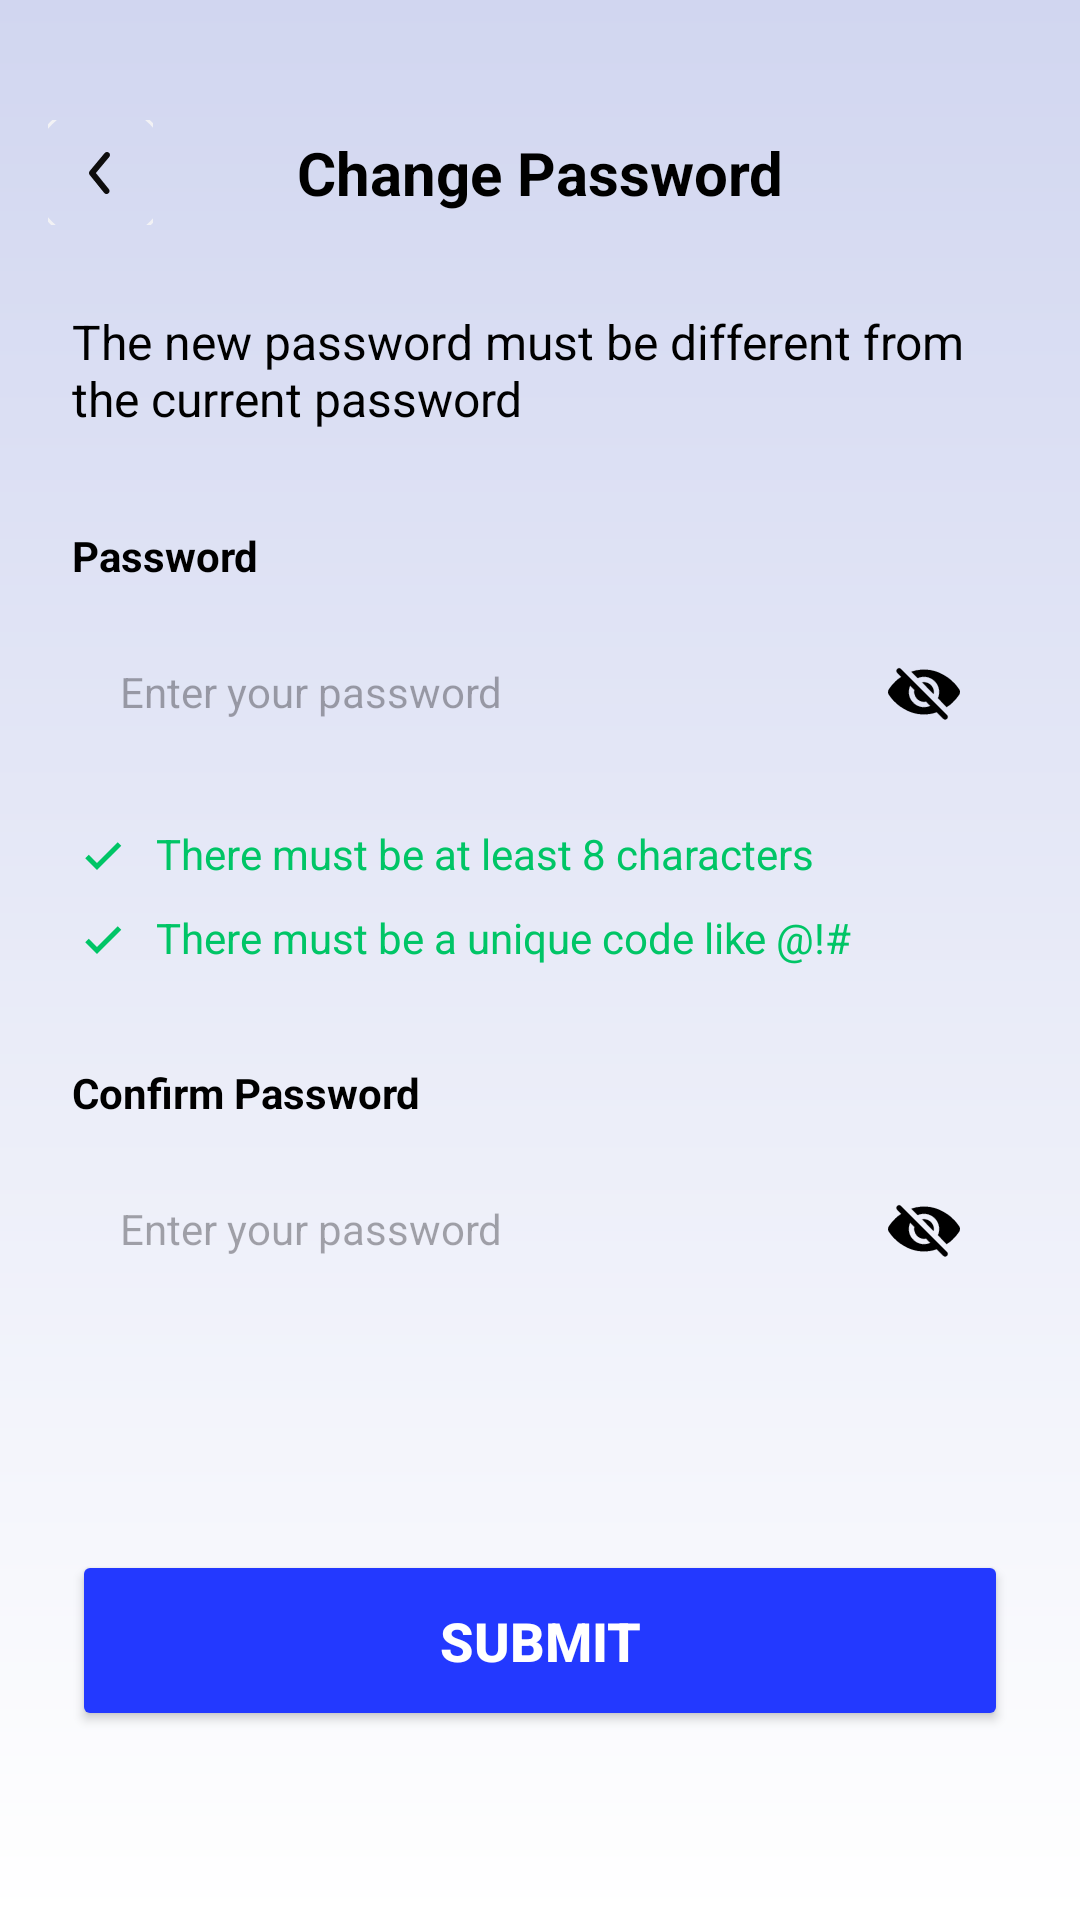

Icons on this 1080 x 1920 Android screen, each with the point to tap as (x=x, y=y):
Back: (x=100, y=172)
